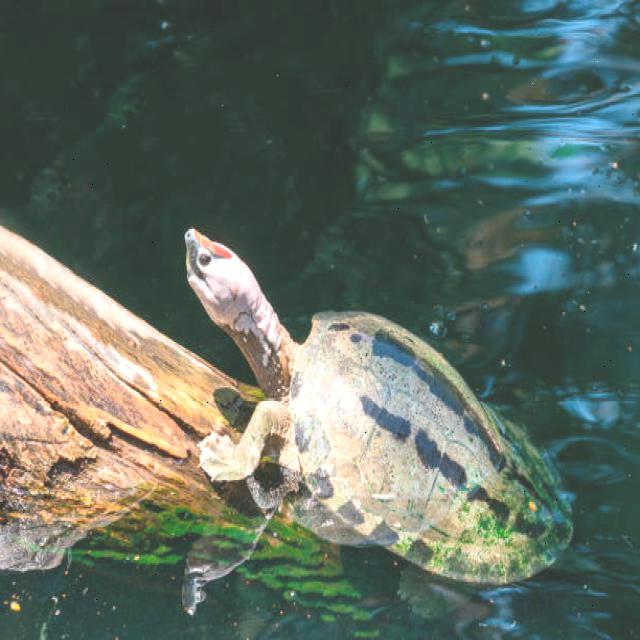tortoise: (178, 223, 578, 581)
